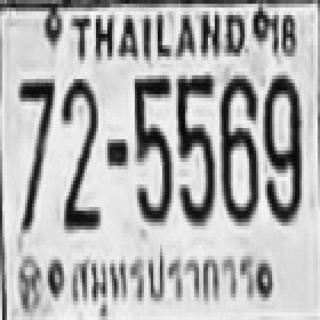N02: (62, 79, 99, 230)
N05: (176, 73, 215, 224), (134, 75, 173, 224)
N06: (220, 72, 258, 221)
N07: (18, 73, 53, 228)
N09: (263, 72, 302, 220)
P57: (66, 235, 258, 317)
